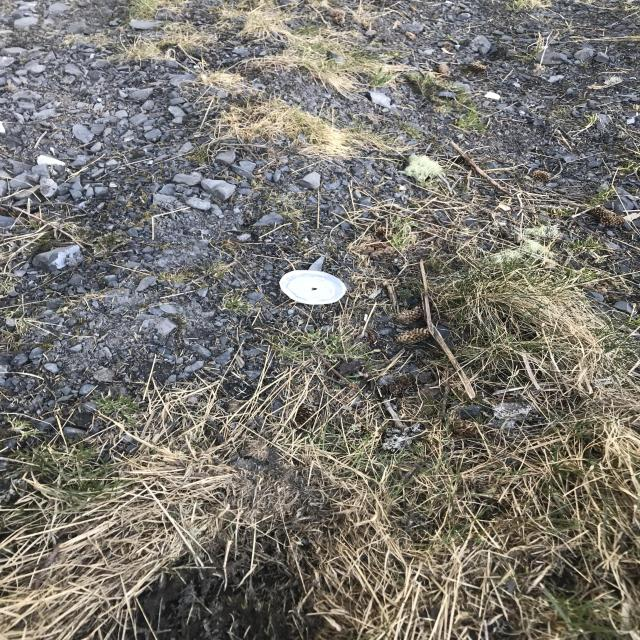litter: (359, 221, 406, 271)
